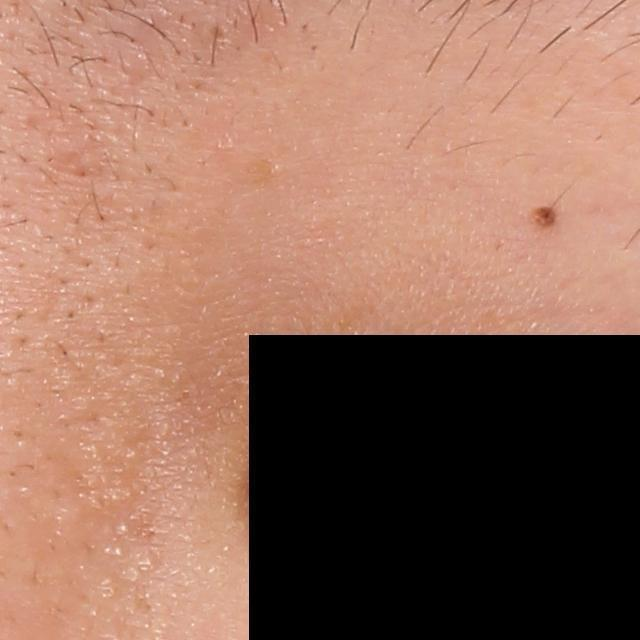nevus: (525, 199, 559, 234)
